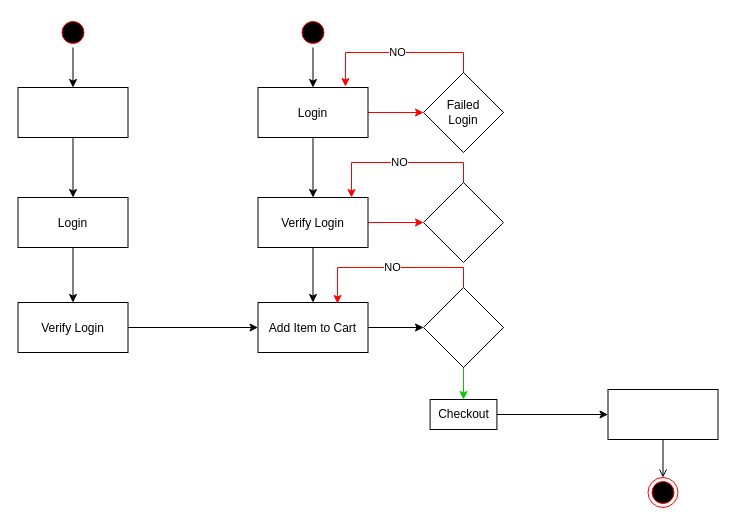
The diagram is 735 pixels wide and 525 high, and some of its shapes have lost their labels. The shapes that lost their labels are listed below. From the top down, each one's centre as x and y in pixels, then its label:
At point 72,112: "Signup".
At point 463,222: "Failed Verification".
At point 463,327: "Continue to checkout".
At point 662,414: "Confirm checkout".
